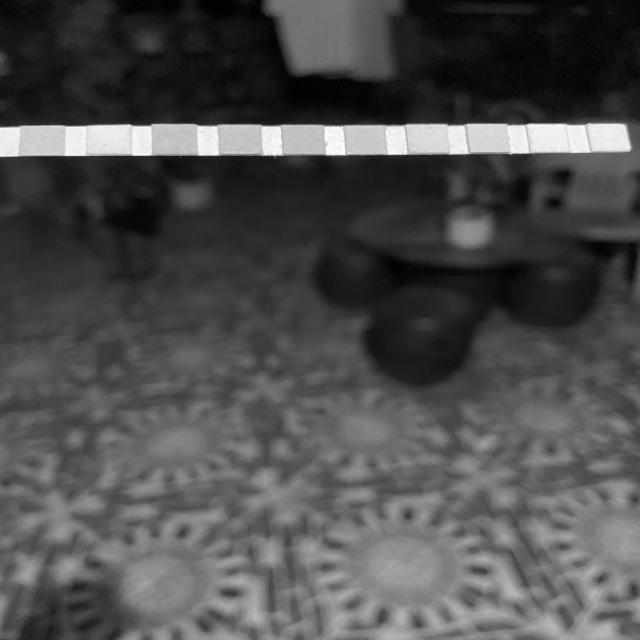Bilirubin: (88, 127, 130, 154)
Blood: (284, 126, 323, 153)
Glucose: (22, 126, 63, 154)
Ketone: (154, 126, 196, 154)
Leukocytes: (593, 126, 625, 150)
Nitrite: (533, 126, 565, 151)
Protein: (410, 126, 446, 152)
SpGravity: (220, 126, 260, 154)
Urobilinogen: (472, 126, 508, 151)
background: (0, 0, 640, 640)
pH: (348, 127, 384, 153)
strip: (0, 123, 631, 157)
